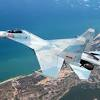maybay_muctieu: (1, 25, 99, 84)
